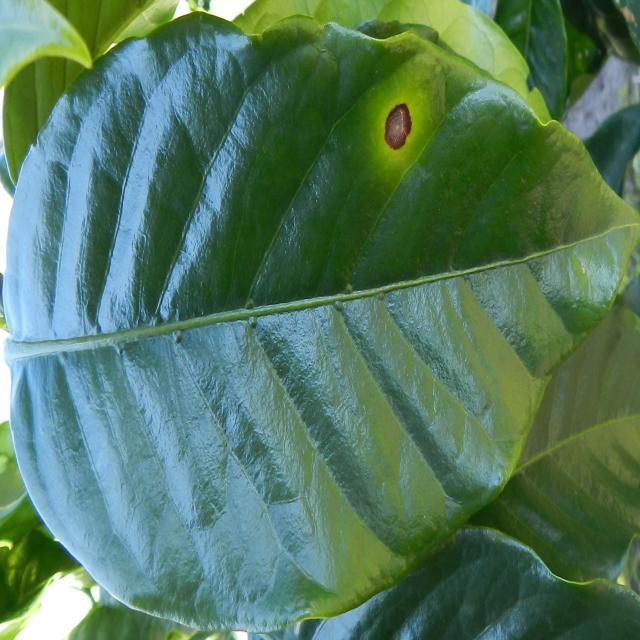Enfermedad-Mancha-de-hierro: (4, 0, 640, 640)
